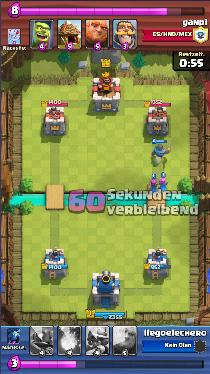ally_archer: (158, 178, 170, 192), (149, 178, 158, 193)
ally_knight: (149, 144, 171, 159)
